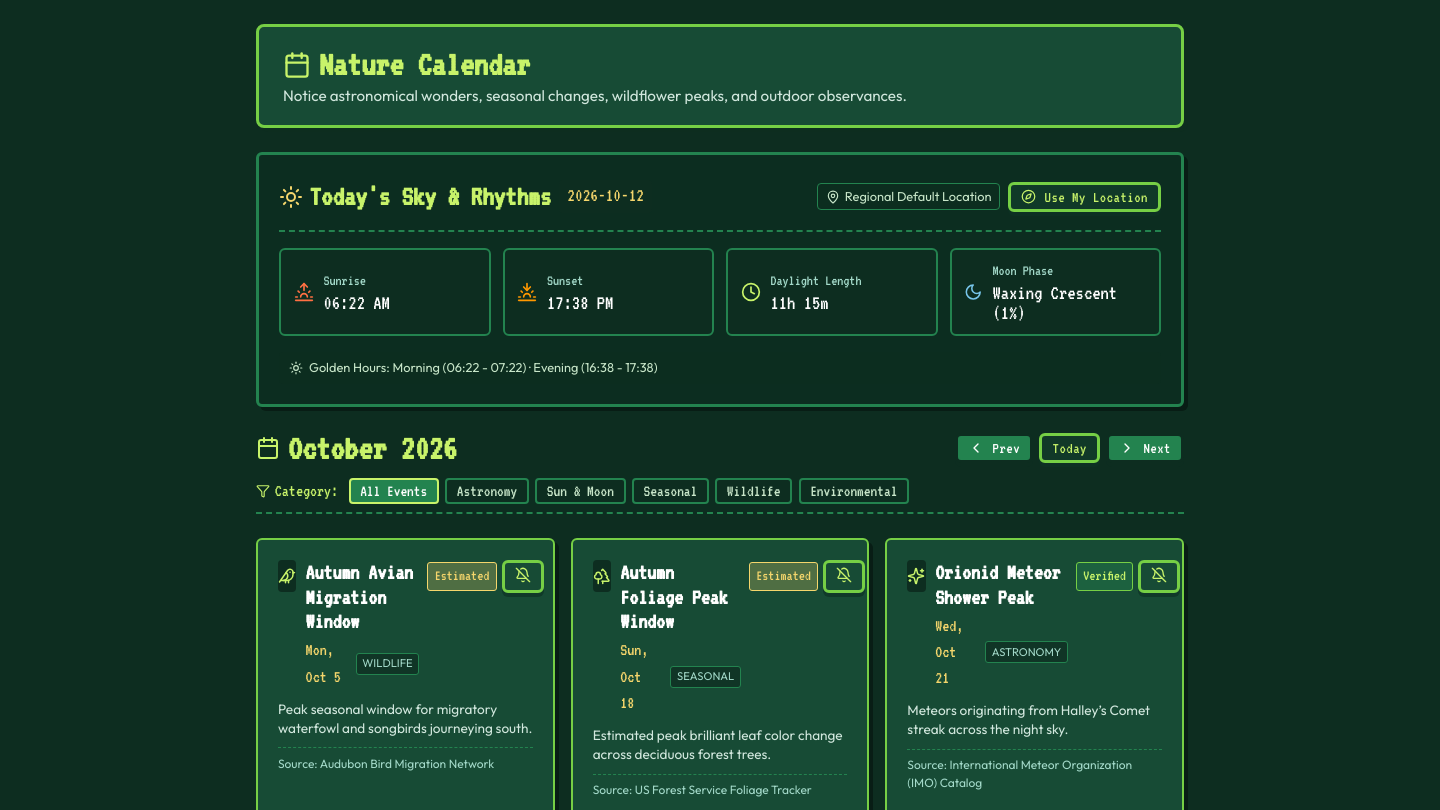
it: Milestone 6 — CalendarPage Component Integration Tests › opens event detail modal when clicking an event card
Click the heading "Orionid Meteor Shower Peak": (1002, 585) [935,560,1068,609]
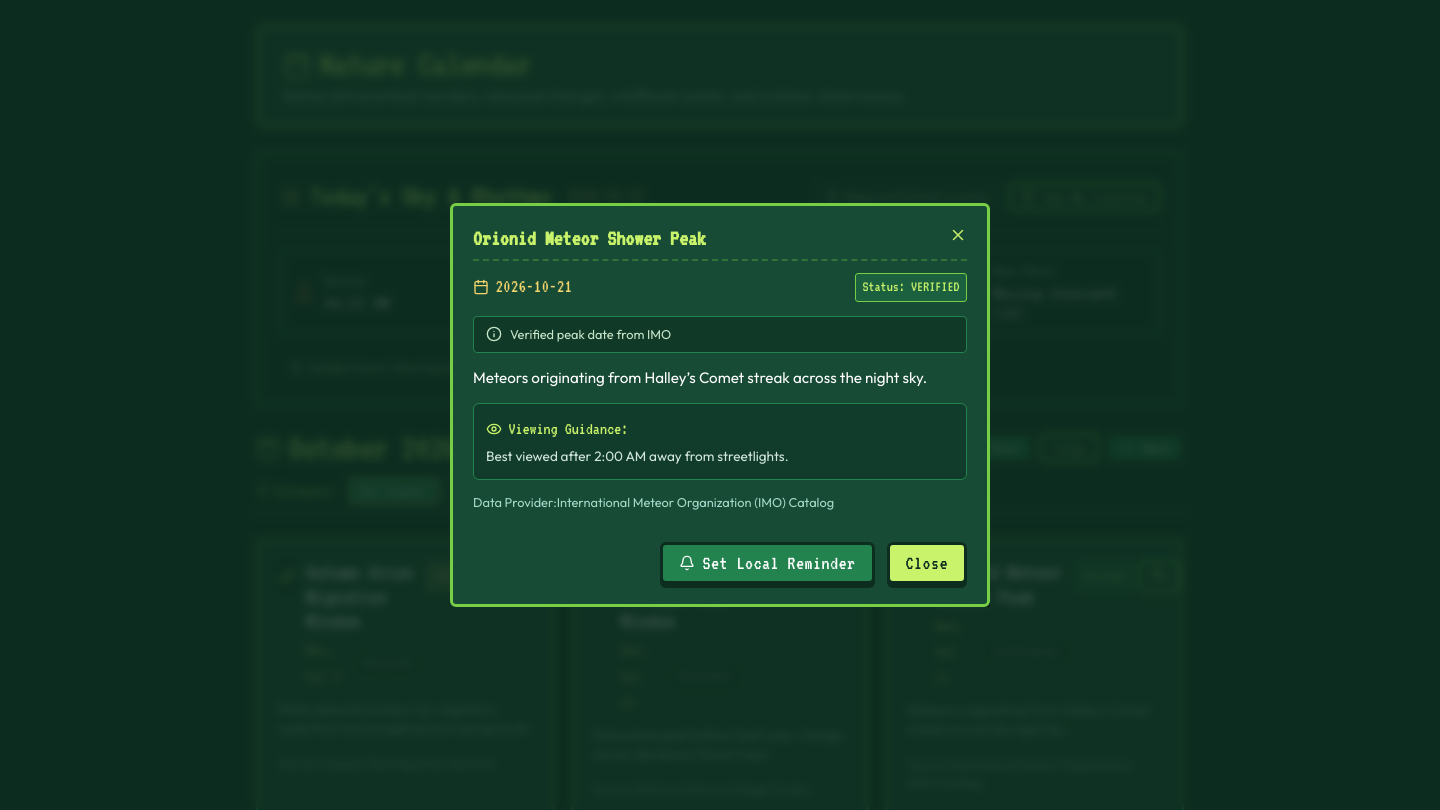
Check: the dialog is shown
Check: the text "Viewing Guidance:" is shown, box [508,416,628,442]
